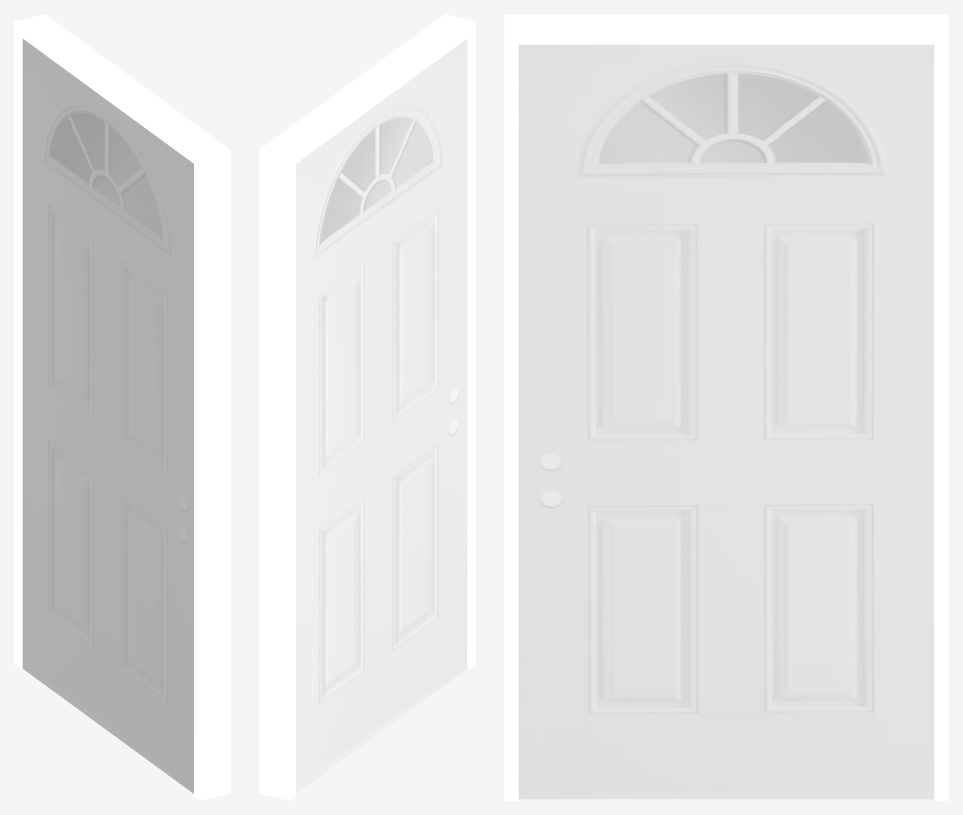
File: 5_lite_walkin_OLD.852afb68.gltf
The picture shows the model from 3 angles, left to right: view 1: azimuth 30°, elevation 25°; view 2: azimuth 150°, elevation 25°; view 3: azimuth 270°, elevation 25°; orthographic projection. The views are drawn at different scales.
Visible parts, largest first — view 1: Doors, trims; view 2: Doors, trims; view 3: Doors, trims.
Part boxes in pixels (x1,y1,x2,y2): Doors: (22,39,193,793); trims: (14,14,230,800); Doors: (296,39,467,793); trims: (259,14,475,800); Doors: (518,44,934,799); trims: (504,14,948,800).
Size of the model in its own units: 0.302 by 6.01 by 3.14.
Materials: 2 (1 with a texture image).
